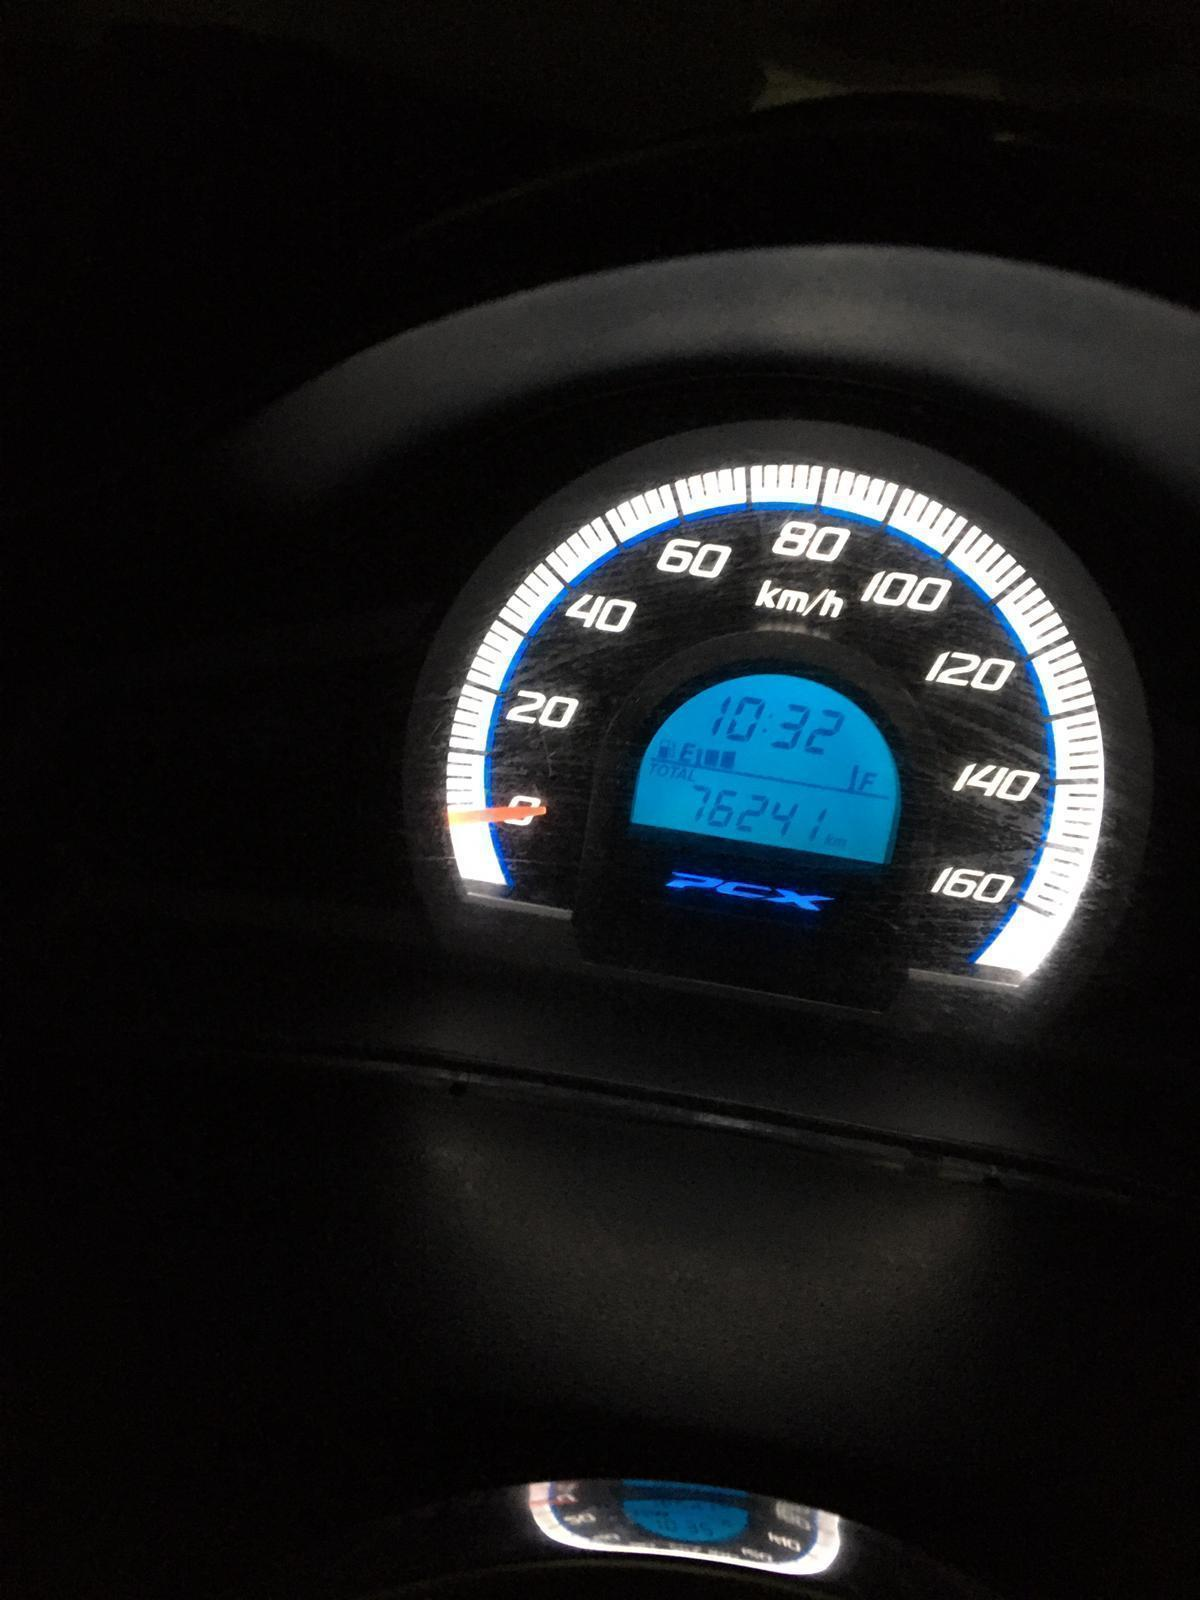0: (732, 693, 761, 743)
1: (707, 690, 727, 734), (807, 806, 824, 843)
2: (809, 706, 845, 753), (737, 791, 768, 834)
3: (776, 699, 807, 752)
4: (771, 797, 799, 842)
6: (710, 786, 734, 828)
7: (689, 784, 710, 826)
X: (860, 769, 879, 790), (679, 741, 695, 762), (763, 711, 774, 736), (833, 837, 846, 849), (657, 763, 668, 776), (669, 763, 679, 777), (688, 769, 696, 784), (648, 762, 657, 775), (824, 831, 832, 845), (679, 767, 687, 779)
odometer: (621, 649, 913, 874)
